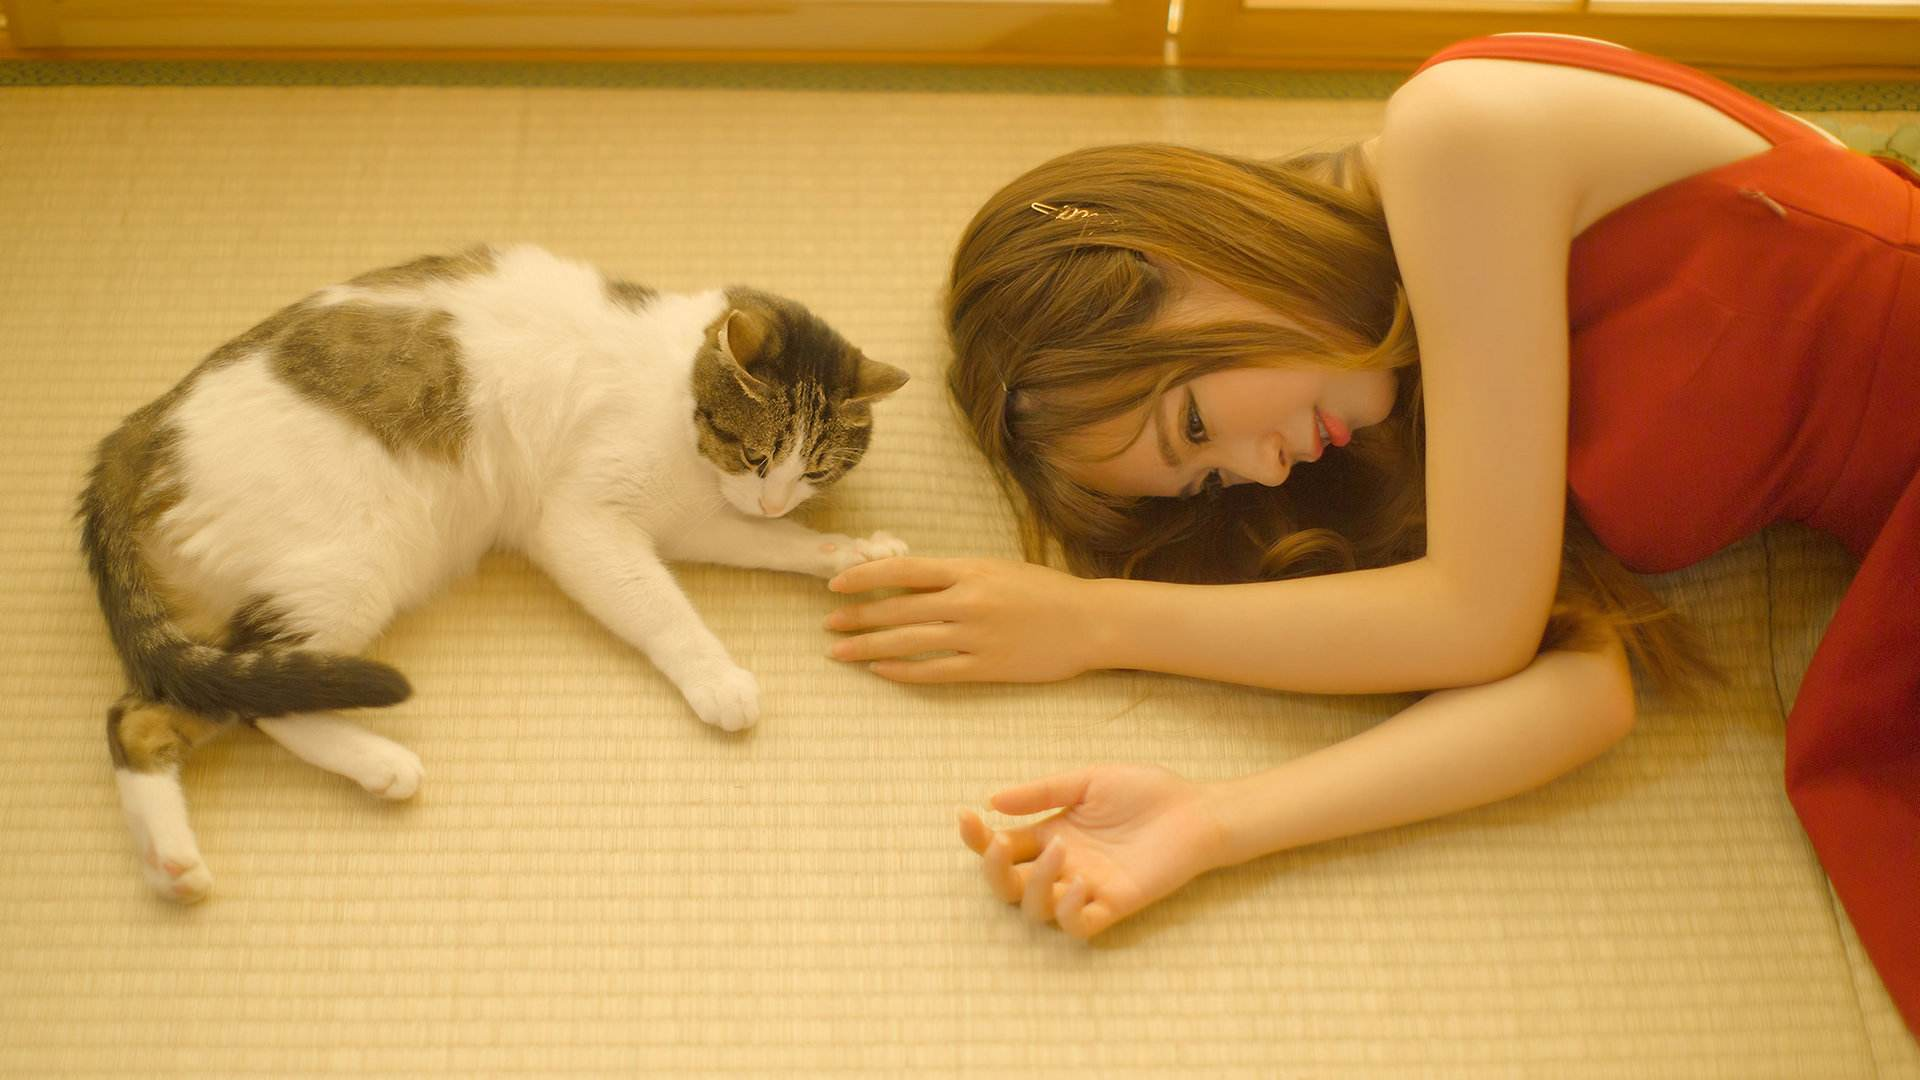person: (984, 112, 1920, 860)
